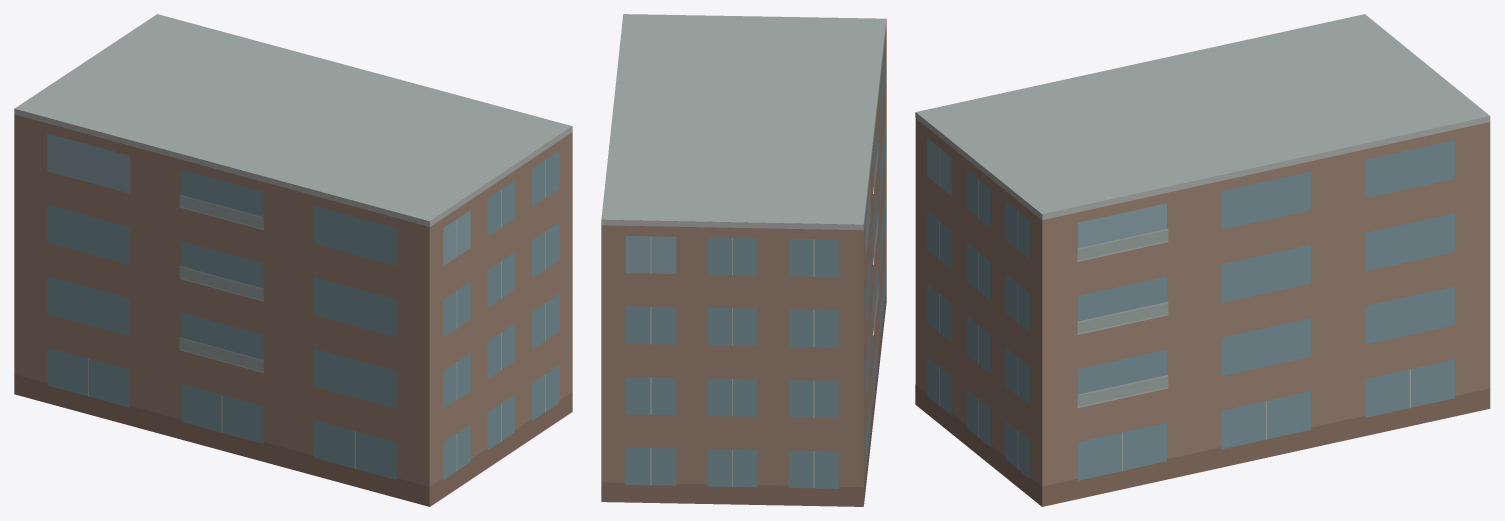
The model's file is survey-upis-32839247.glb.
The picture shows the model from 3 angles, left to right: view 1: azimuth 30°, elevation 25°; view 2: azimuth 150°, elevation 25°; view 3: azimuth 270°, elevation 25°; orthographic projection. The views are drawn at different scales.
Parts seen in each view (by area): view 1: survey-upis-32839247.tmp; view 2: survey-upis-32839247.tmp; view 3: survey-upis-32839247.tmp.
Part boxes in pixels (<box>): survey-upis-32839247.tmp: <box>14,14,572,506</box>; survey-upis-32839247.tmp: <box>601,14,886,506</box>; survey-upis-32839247.tmp: <box>915,14,1490,506</box>.
Size of the model in its own units: 17.93 by 12.2 by 21.74.
